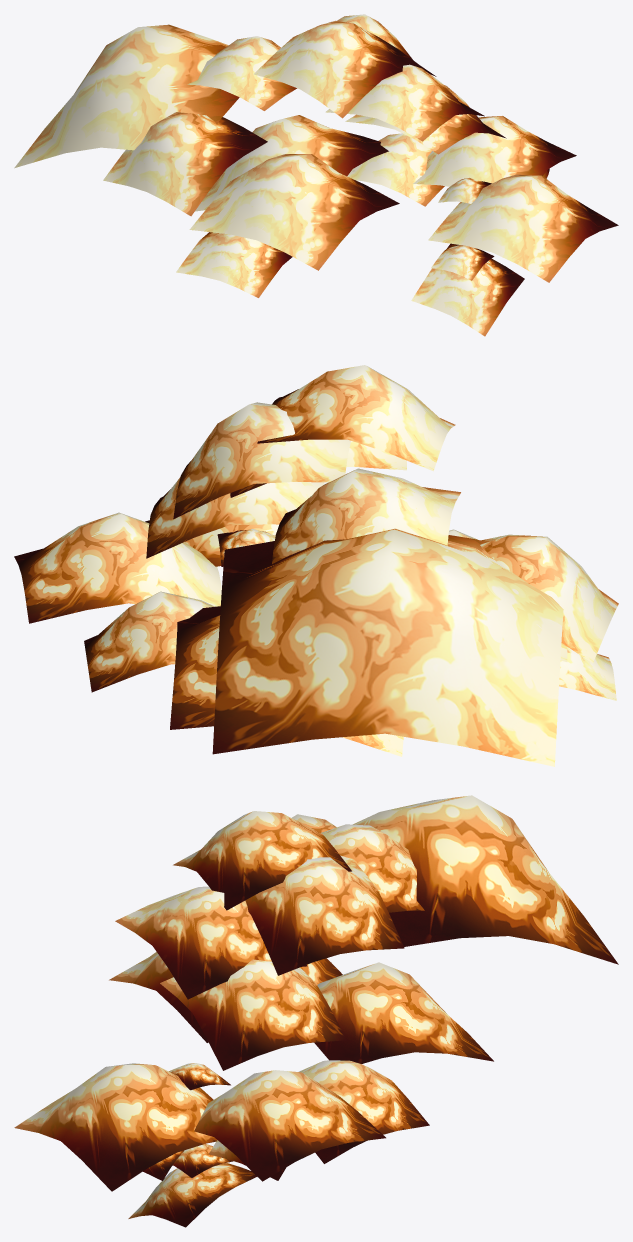
Rendered from tree12.obj.
3 renders of one model, top to bottom at view 1: azimuth 30°, elevation 25°; view 2: azimuth 150°, elevation 25°; view 3: azimuth 270°, elevation 25°, orthographic. The views are drawn at different scales.
Visible parts, largest first — view 1: leaf2.001; view 2: leaf2.001; view 3: leaf2.001.
Part boxes in pixels (left/top/right/bottom): leaf2.001: left=14, top=14, right=618, bottom=336; leaf2.001: left=14, top=365, right=618, bottom=766; leaf2.001: left=14, top=795, right=618, bottom=1227.
Bounding box in the file's own units: 9.44 × 5.64 × 8.76.
